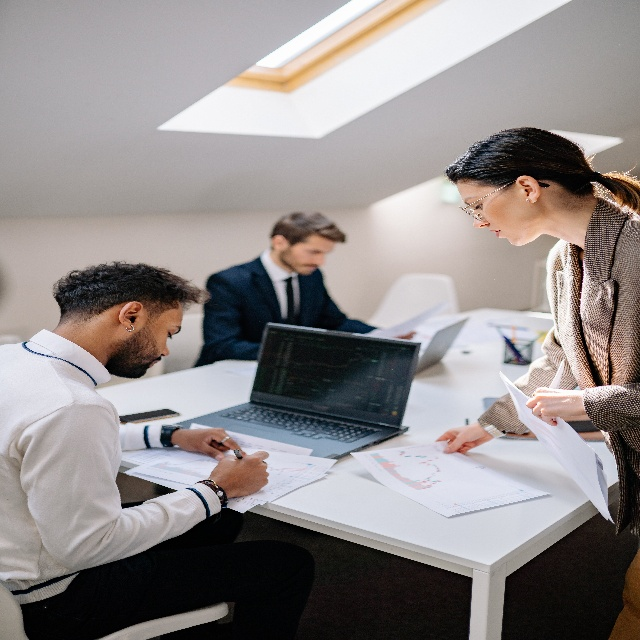Gafas: (459, 177, 550, 223)
Sin_guantes: (206, 442, 269, 503), (524, 383, 586, 427), (182, 426, 247, 463), (435, 421, 493, 457)
